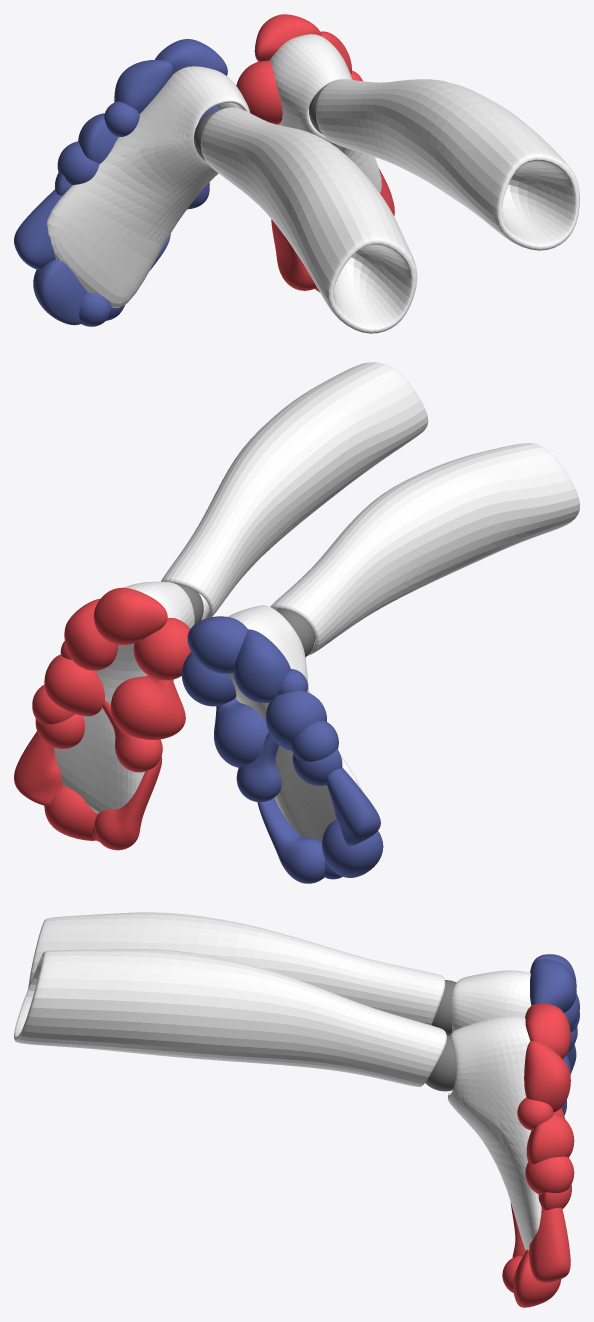
Rendered from piernas.fbx.
3 renders of one model, top to bottom at view 1: azimuth 30°, elevation 25°; view 2: azimuth 150°, elevation 25°; view 3: azimuth 270°, elevation 25°, orthographic. The views are drawn at different scales.
Parts seen in each view (by area): view 1: Box33, Box35, Box39, Layer 05, Box40; view 2: Layer 05, Box35, Box33, Box40, Box39; view 3: Box33, Layer 05, Box35, Box40, Box39.
Part boxes in pixels (x1,y1,x2,y2): Box33: [316, 79, 579, 250]; Box35: [200, 107, 417, 333]; Box39: [47, 66, 250, 307]; Layer 05: [14, 14, 394, 326]; Box40: [269, 34, 381, 192]; Layer 05: [14, 583, 383, 883]; Box35: [270, 443, 579, 655]; Box33: [161, 362, 428, 620]; Box40: [54, 581, 194, 813]; Box39: [228, 605, 361, 842]; Box33: [14, 949, 446, 1086]; Layer 05: [425, 954, 579, 1307]; Box35: [28, 912, 445, 1025]; Box40: [447, 1015, 541, 1250]; Box39: [451, 970, 531, 1031].
Bounding box in the file's own units: 0.5882 × 0.4977 × 0.7868.
